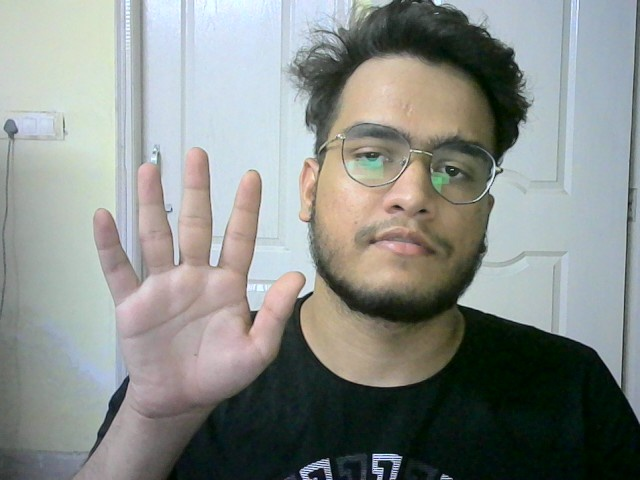Hello: (90, 141, 310, 416)
